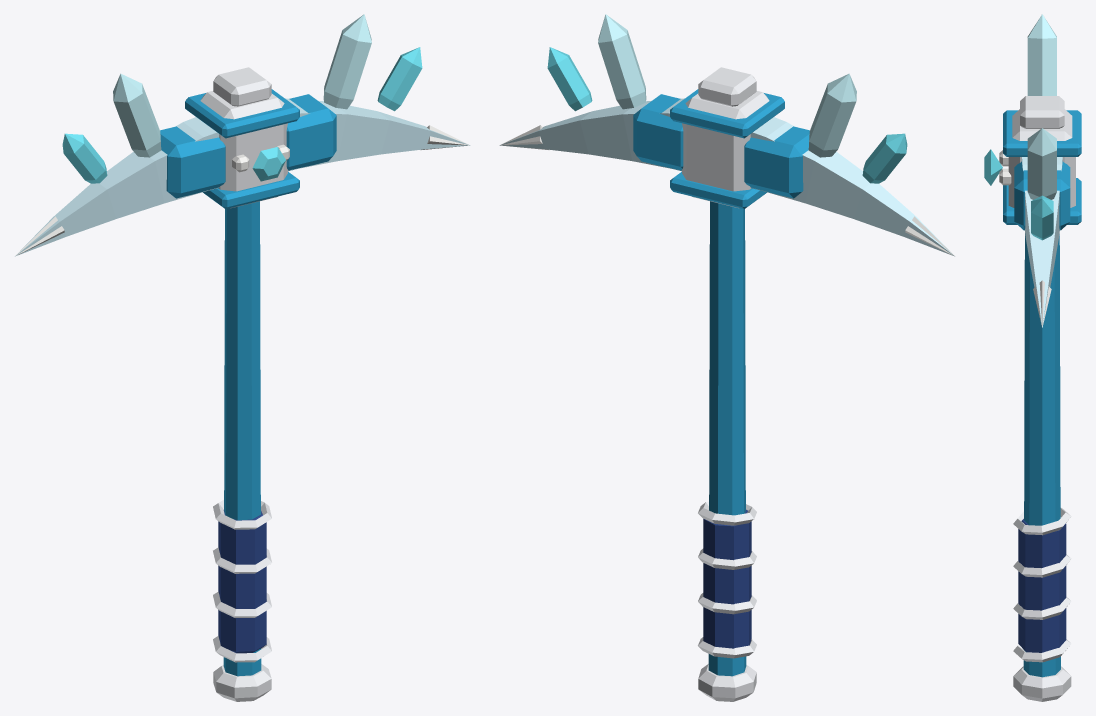
Rendered from FrostPickaxe.fbx.
3 views of the same model, side by side, from view 1: azimuth 30°, elevation 25°; view 2: azimuth 150°, elevation 25°; view 3: azimuth 270°, elevation 25° (orthographic). The views are drawn at different scales.
Parts seen in each view (by area): view 1: FrostPickaxe; view 2: FrostPickaxe; view 3: FrostPickaxe.
Boxes of the visible parts, x1=… form: FrostPickaxe: x1=15, y1=14, x2=470, y2=701; FrostPickaxe: x1=499, y1=14, x2=954, y2=701; FrostPickaxe: x1=984, y1=14, x2=1081, y2=701.
Bounding box in the file's own units: 2.7 × 3.67 × 0.52.
1 material, 1 textured.
